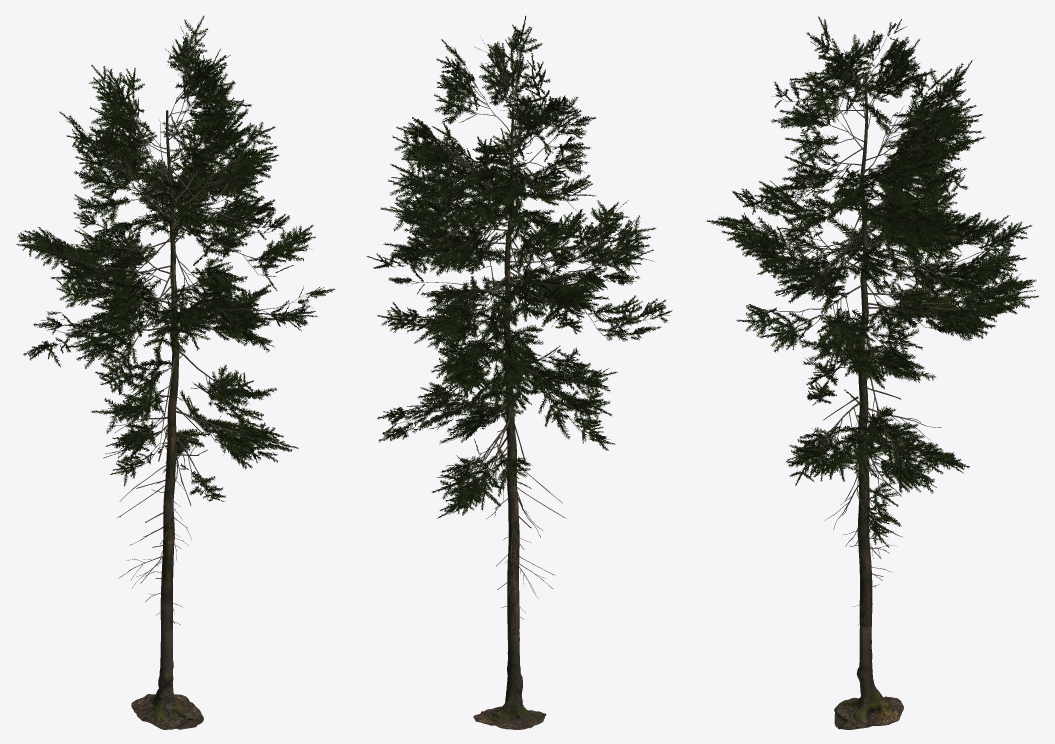
Rendered from fir-b-lod1.glb.
The picture shows the model from 3 angles, left to right: view 1: azimuth 30°, elevation 25°; view 2: azimuth 150°, elevation 25°; view 3: azimuth 270°, elevation 25°; orthographic projection. The views are drawn at different scales.
Visible parts, largest first — view 1: fir_b_lod1; view 2: fir_b_lod1; view 3: fir_b_lod1.
Boxes of the visible parts, x1,y1,x2,y2 form: fir_b_lod1: [16, 15, 335, 729]; fir_b_lod1: [366, 15, 672, 729]; fir_b_lod1: [706, 16, 1038, 729].
Bounding box in the file's own units: 5.63 × 14.08 × 6.08.
4 materials, 4 textured.
